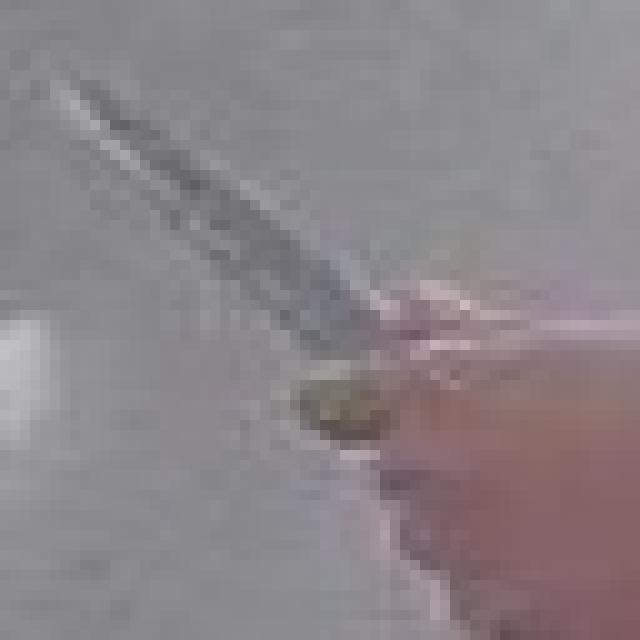knife: (0, 20, 620, 450)
